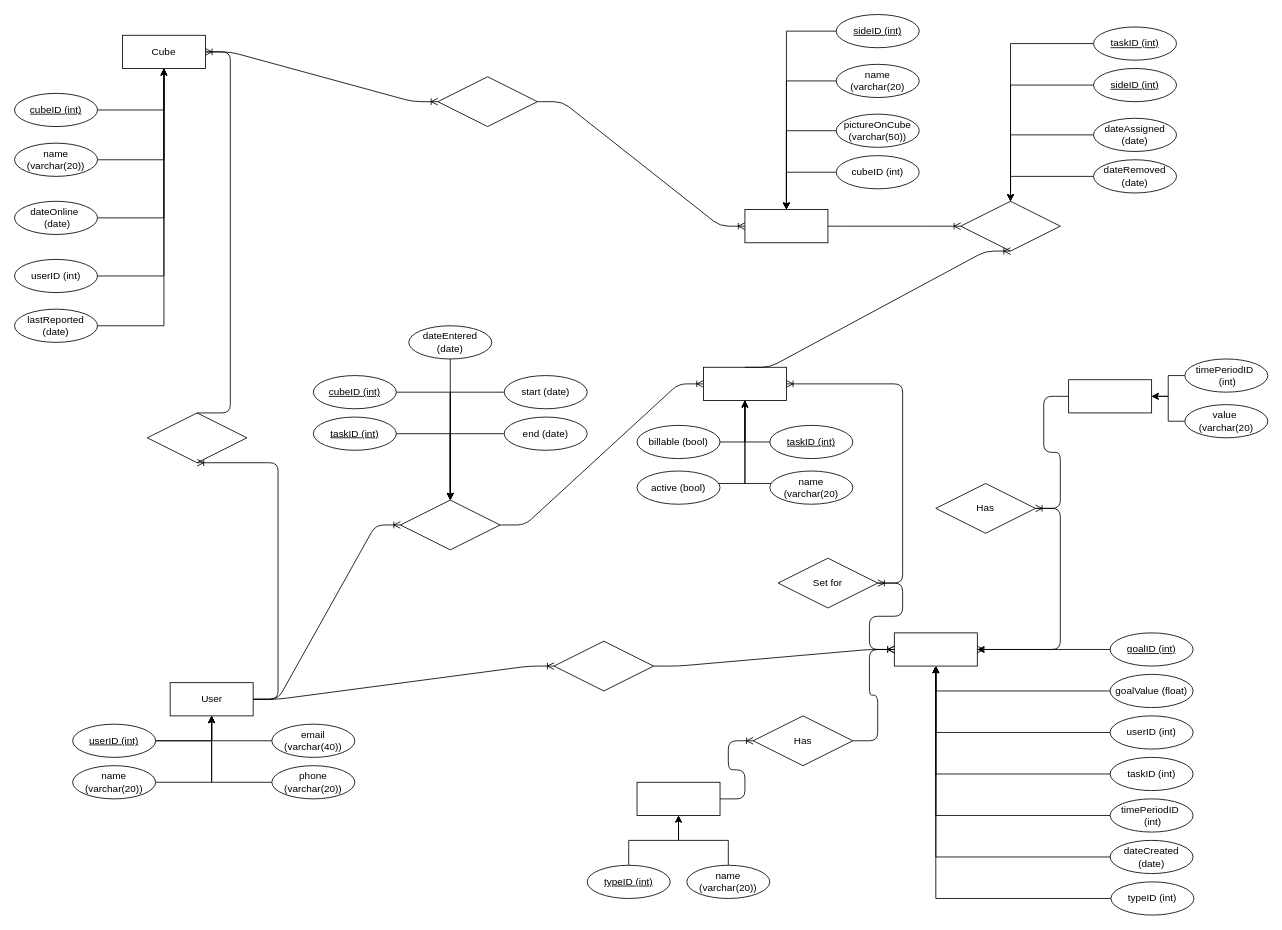
This 1282x930 diagram has some shape labels left out. The centre of each missing label's shape, as x and y in pixels:
"Assigned" belongs at (x=1010, y=225).
"Contains" belongs at (x=487, y=101).
"Goal" belongs at (x=935, y=649).
"Owns" belongs at (x=196, y=437).
"Sets" belongs at (x=603, y=665).
"Side" belongs at (x=786, y=226).
"Task" belongs at (x=744, y=383).
"TimePeriod" belongs at (x=1110, y=396).
"Tracks" belongs at (x=450, y=524).
"Type" belongs at (x=678, y=798).
